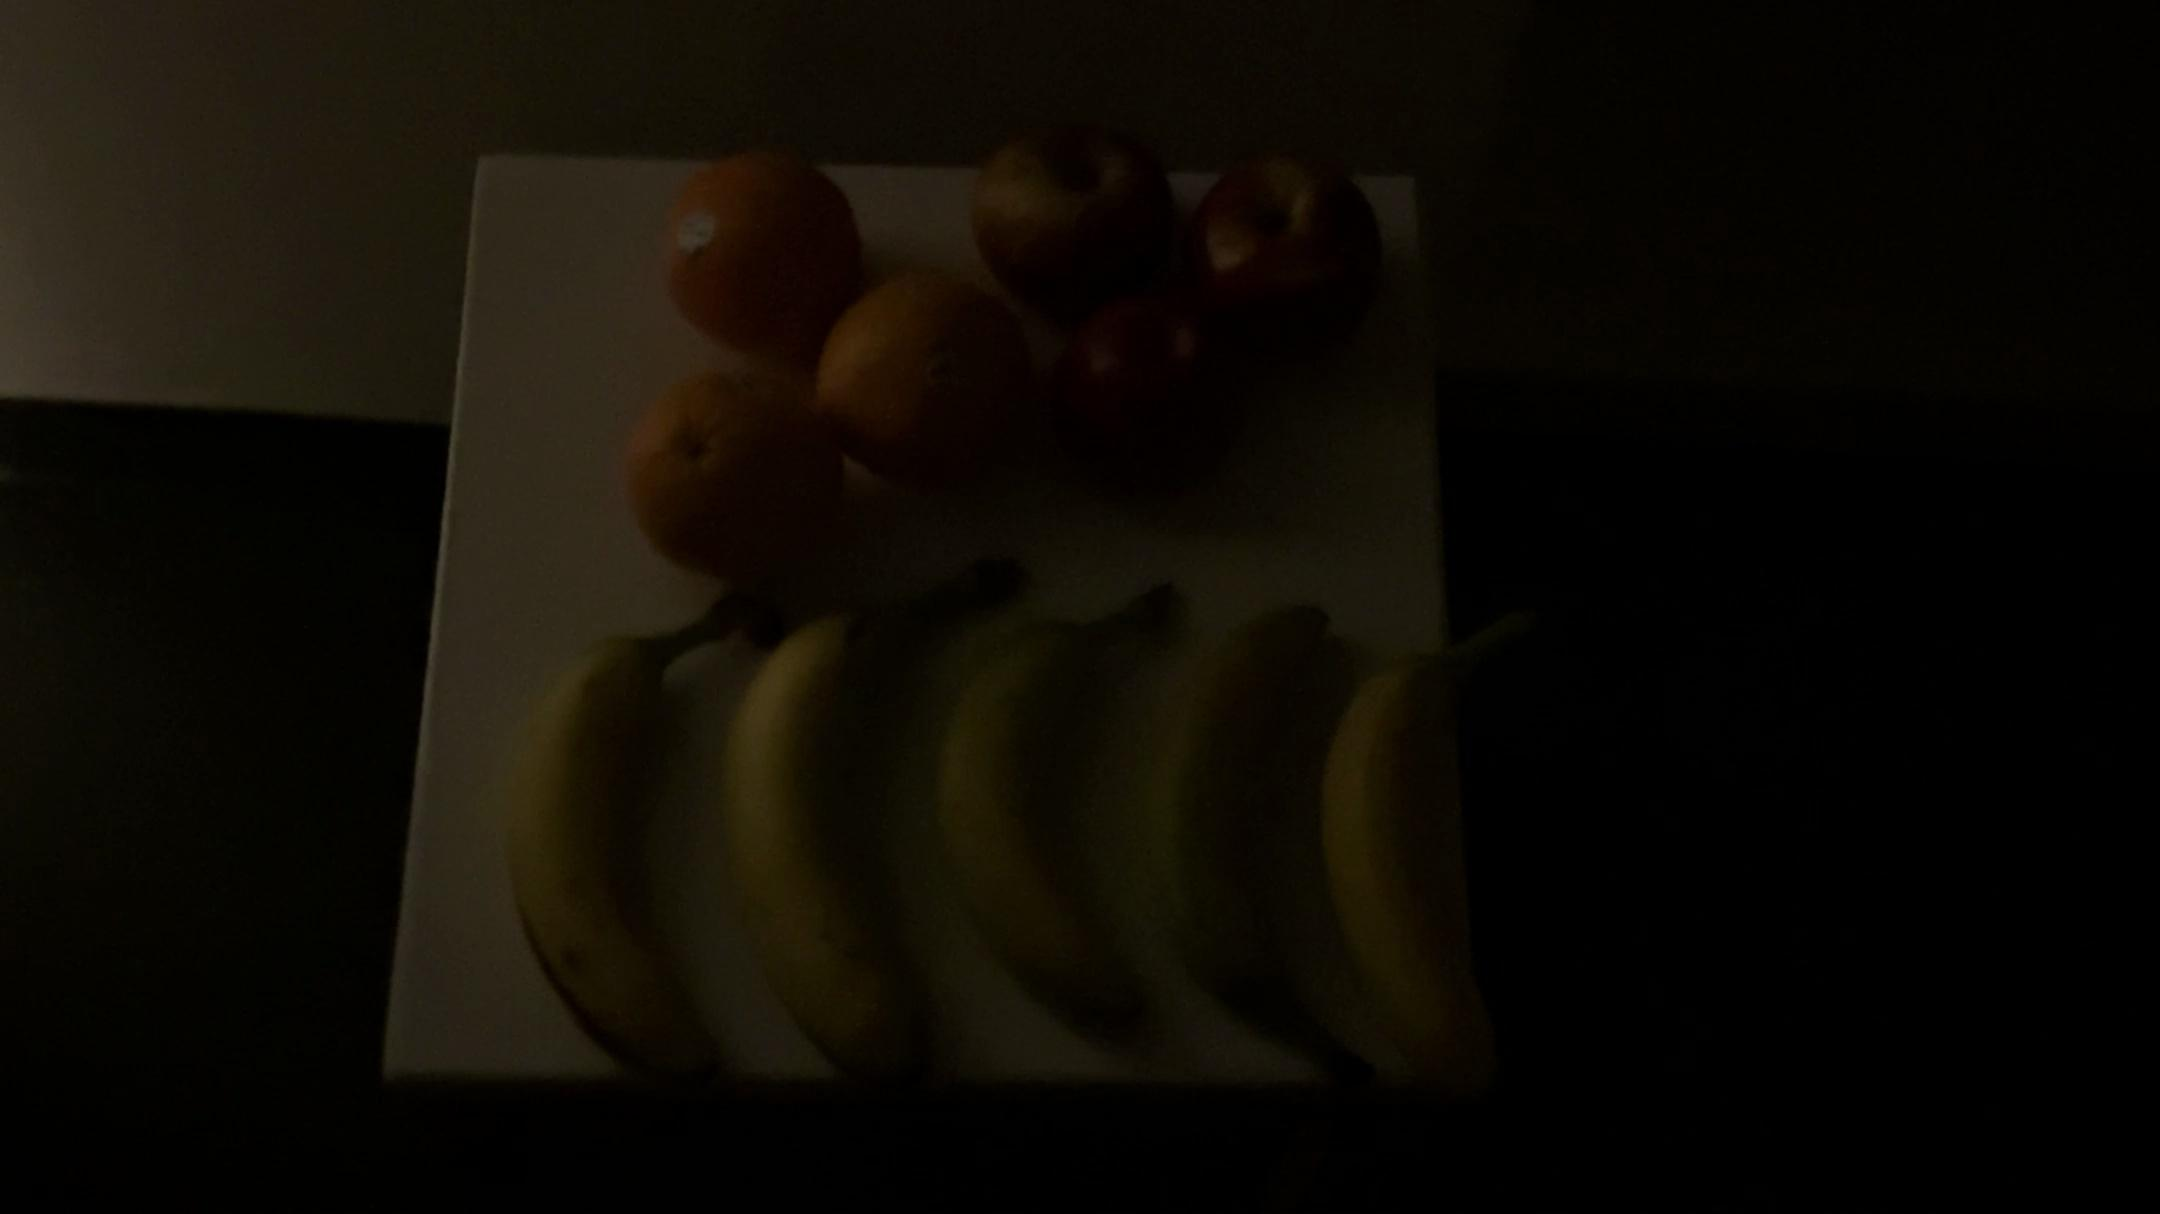apple: (1176, 128, 1386, 370), (1021, 267, 1239, 491), (955, 105, 1191, 306)
banana: (721, 537, 1027, 1076), (490, 580, 754, 1083), (944, 555, 1196, 1066), (1129, 574, 1357, 1069), (1303, 619, 1540, 1060)
orange: (823, 243, 1031, 515), (653, 131, 880, 371), (613, 355, 829, 582)
